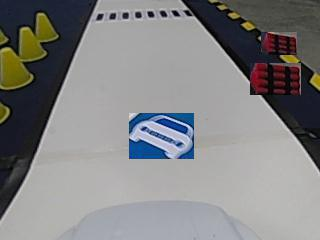crosswalk: (96, 8, 192, 22)
